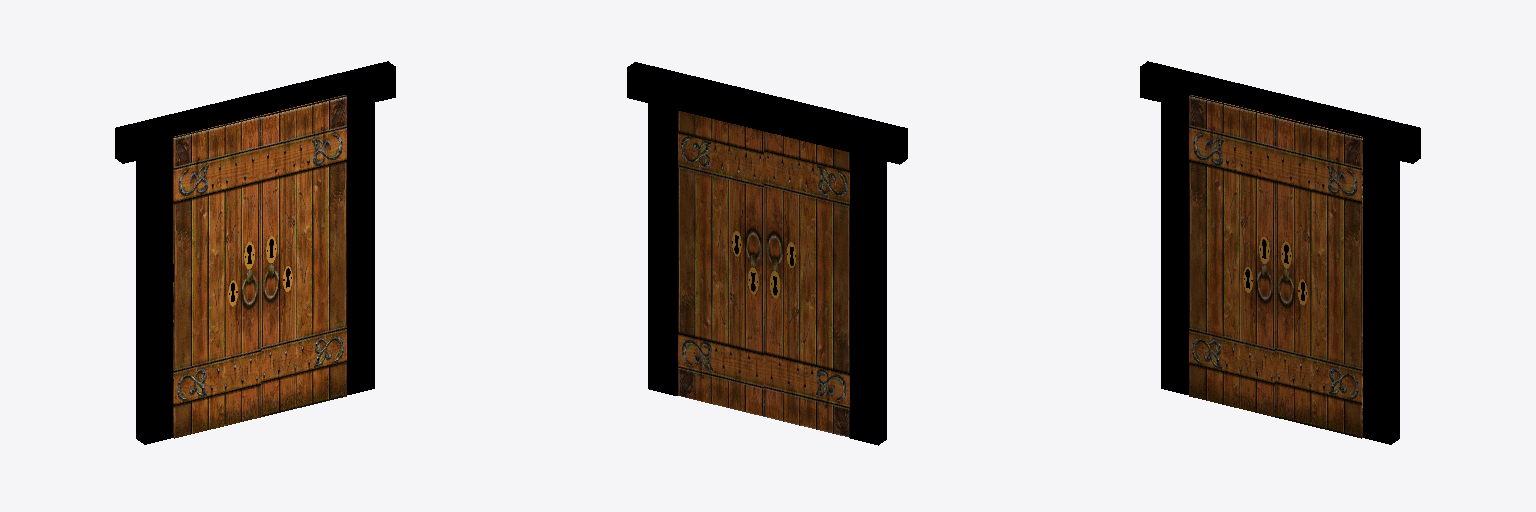
The picture shows the model from 3 angles: view 1: azimuth 30°, elevation 25°; view 2: azimuth 150°, elevation 25°; view 3: azimuth 330°, elevation 25°; orthographic projection.
Parts seen in each view (by area): view 1: pasted__pCube3 group, pCube3, pCube5, pCube6, pCube4; view 2: pasted__pCube3 group, pCube3, pCube5, pCube4, pCube6; view 3: pCube3, pasted__pCube3 group, pCube6, pCube4, pCube5.
Boxes of the visible parts, <box> form: pasted__pCube3 group: <box>173,116,260,438</box>; pCube3: <box>260,95,346,416</box>; pCube5: <box>136,137,172,444</box>; pCube6: <box>347,103,374,394</box>; pCube4: <box>115,61,395,163</box>; pasted__pCube3 group: <box>764,132,849,437</box>; pCube3: <box>678,111,763,416</box>; pCube5: <box>850,138,886,445</box>; pCube4: <box>627,62,907,164</box>; pCube6: <box>648,88,677,395</box>; pCube3: <box>1275,116,1362,438</box>; pasted__pCube3 group: <box>1189,95,1275,416</box>; pCube6: <box>1363,138,1399,444</box>; pCube4: <box>1140,61,1420,163</box>; pCube5: <box>1161,103,1188,394</box>.
Size of the model in its own units: 19 by 21 by 1.1.
Materials: 3 (2 with a texture image).